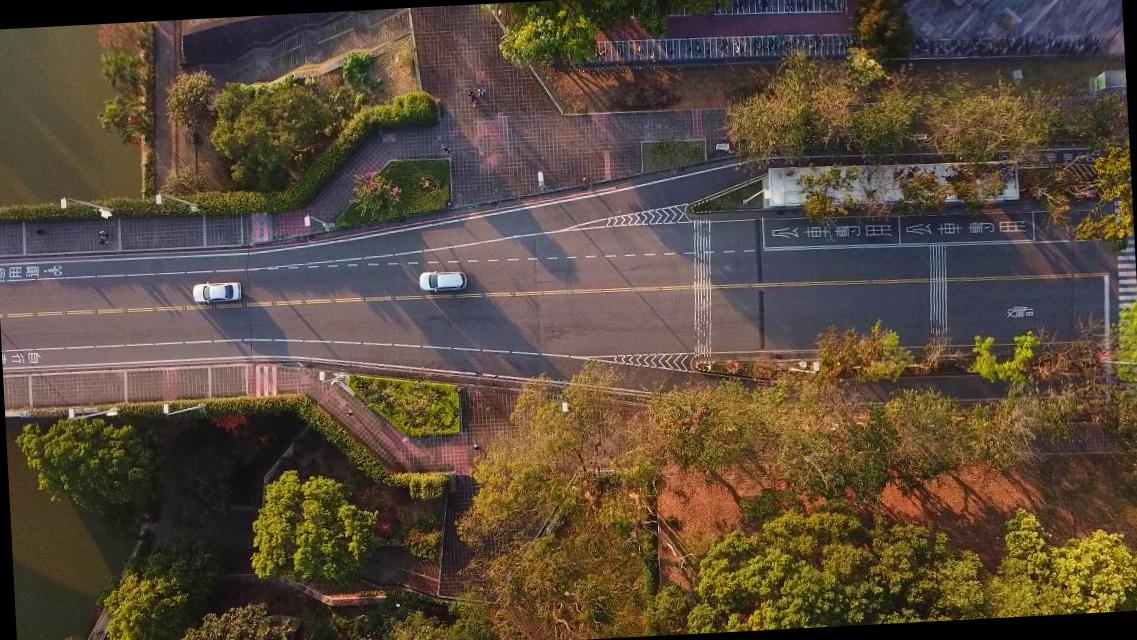vehicle: (418, 270, 466, 294), (192, 282, 242, 304)
